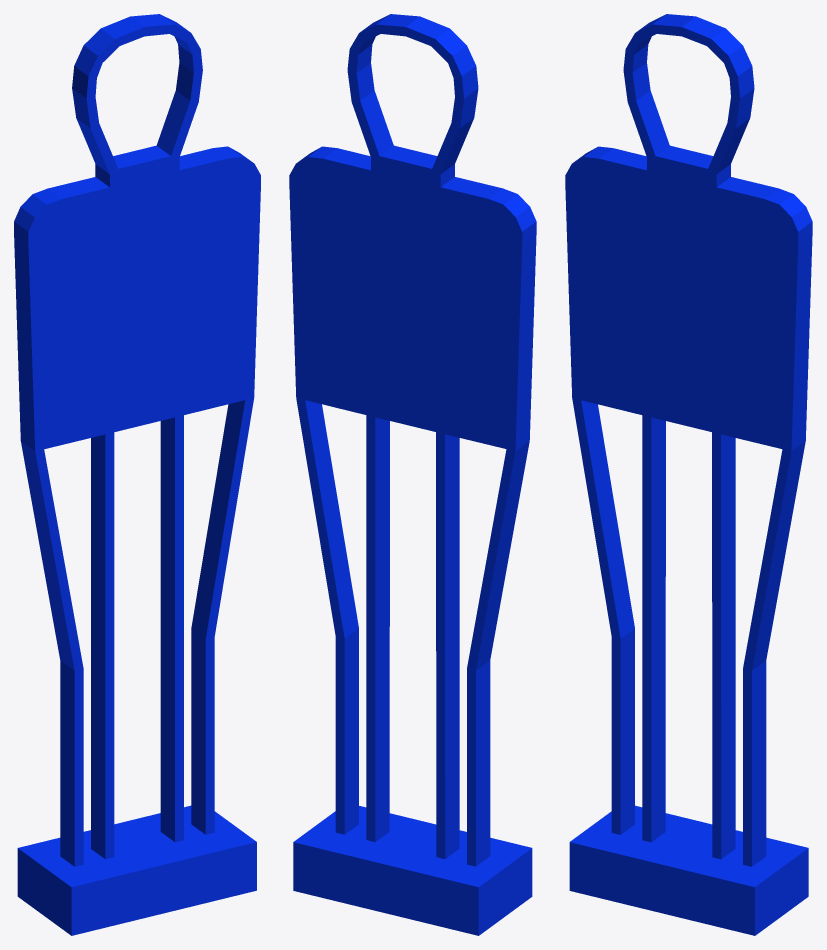
File: equipment_0008_mannequin.glb
3 renders of one model, left to right at view 1: azimuth 30°, elevation 25°; view 2: azimuth 150°, elevation 25°; view 3: azimuth 330°, elevation 25°, orthographic.
Visible parts, largest first — view 1: mannequin; view 2: mannequin; view 3: mannequin.
Part boxes in pixels (x1,y1,x2,y2): mannequin: (14, 14, 260, 935); mannequin: (289, 14, 536, 935); mannequin: (565, 14, 812, 935).
Size of the model in its own units: 50.26 by 180 by 20.16.
